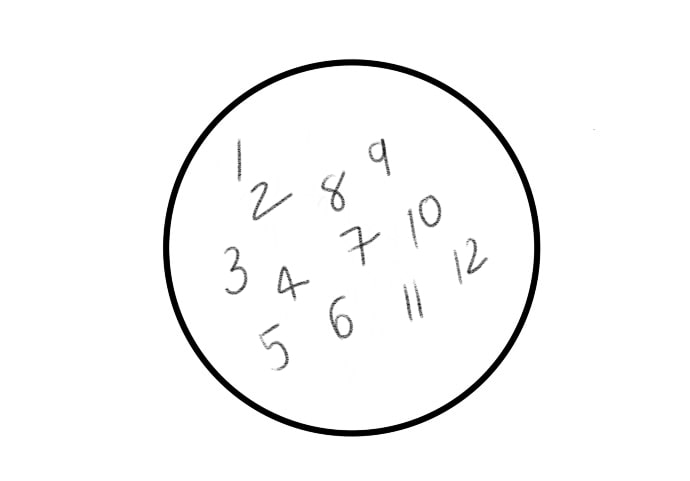eight: (319, 170, 347, 212)
eleven: (397, 278, 425, 322)
five: (252, 319, 290, 375)
four: (276, 262, 309, 304)
nine: (365, 134, 393, 177)
one: (229, 134, 246, 188)
seven: (337, 222, 381, 270)
six: (326, 292, 355, 341)
ten: (404, 193, 443, 250)
three: (220, 242, 251, 297)
twelve: (448, 236, 489, 287)
two: (248, 176, 295, 222)
